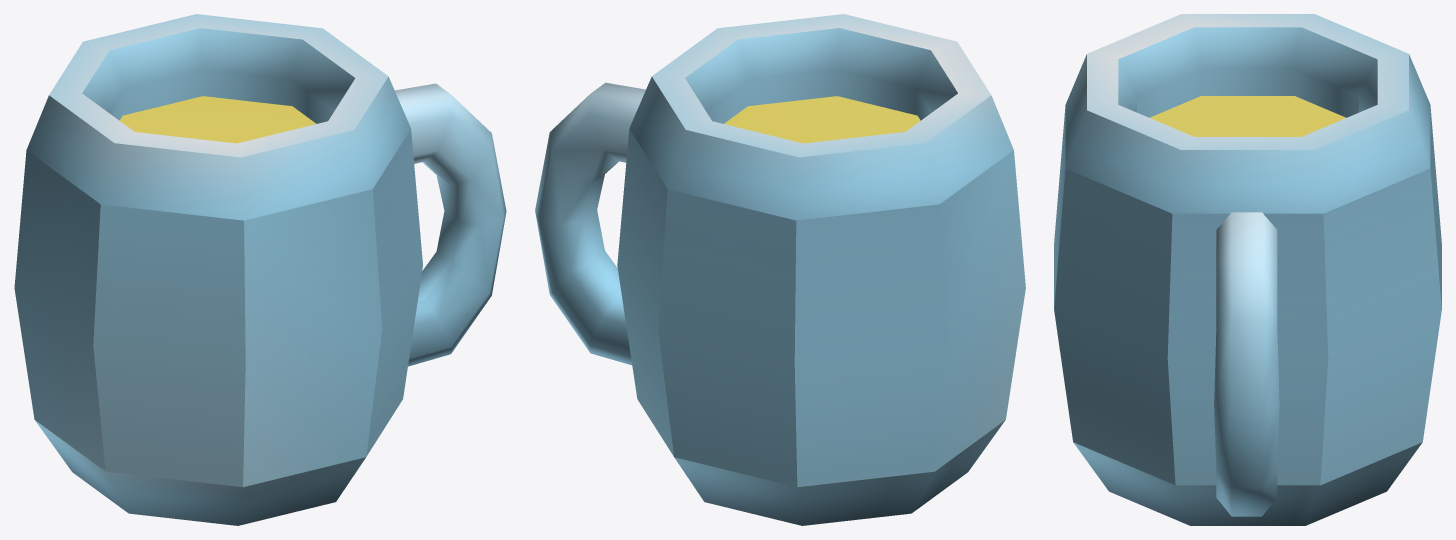
File: mug_glass_beer.fbx
3 renders of one model, left to right at view 1: azimuth 30°, elevation 25°; view 2: azimuth 150°, elevation 25°; view 3: azimuth 270°, elevation 25°, orthographic.
Visible parts, largest first — view 1: mug_glass_beer; view 2: mug_glass_beer; view 3: mug_glass_beer.
Boxes of the visible parts, left/top/right/bottom form: mug_glass_beer: left=14, top=14, right=506, bottom=525; mug_glass_beer: left=535, top=14, right=1025, bottom=525; mug_glass_beer: left=1054, top=14, right=1441, bottom=525.
Bounding box in the file's own units: 33.11 × 26.96 × 24.59.
